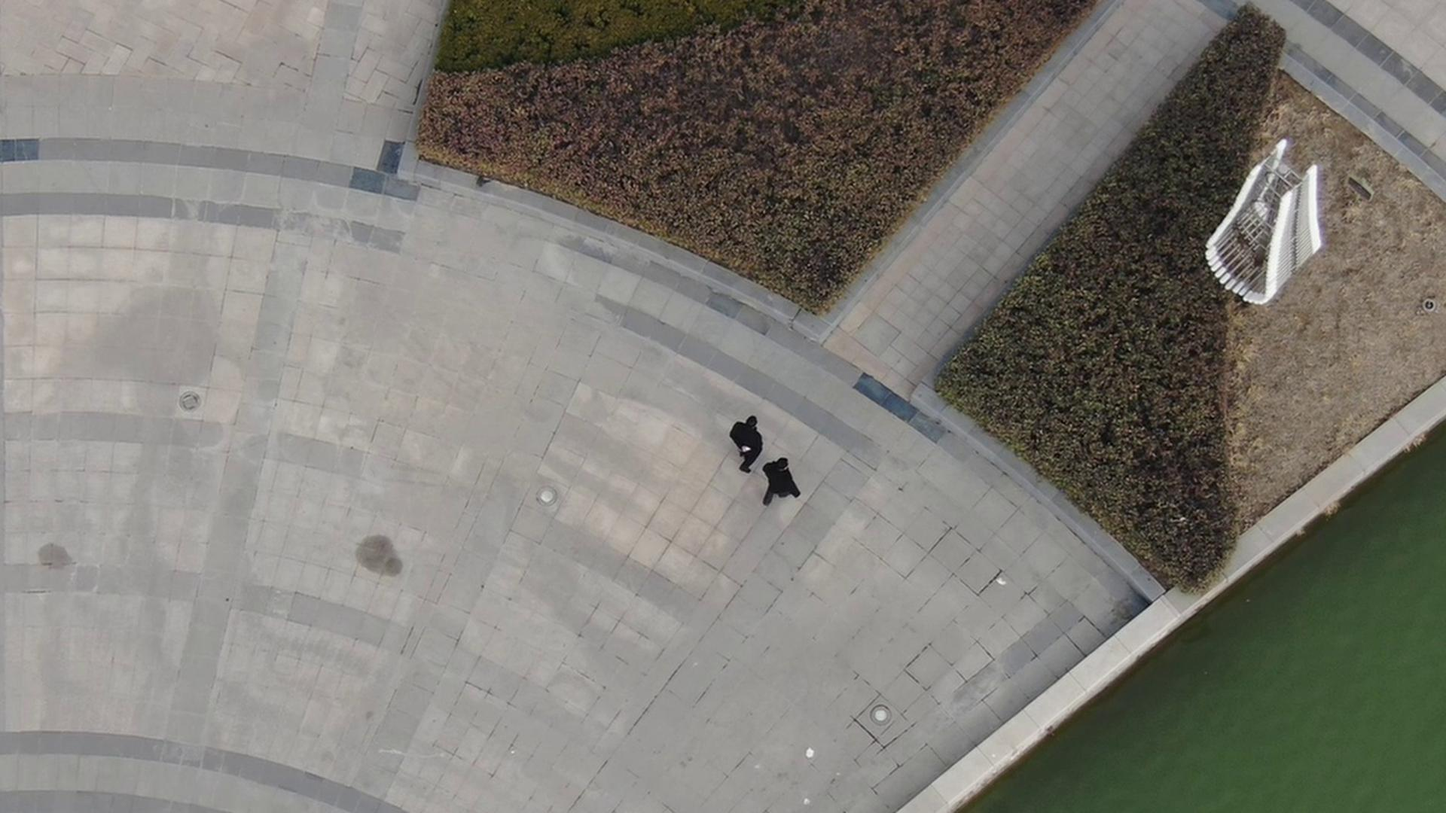human: (713, 406, 758, 477), (749, 446, 795, 514)
